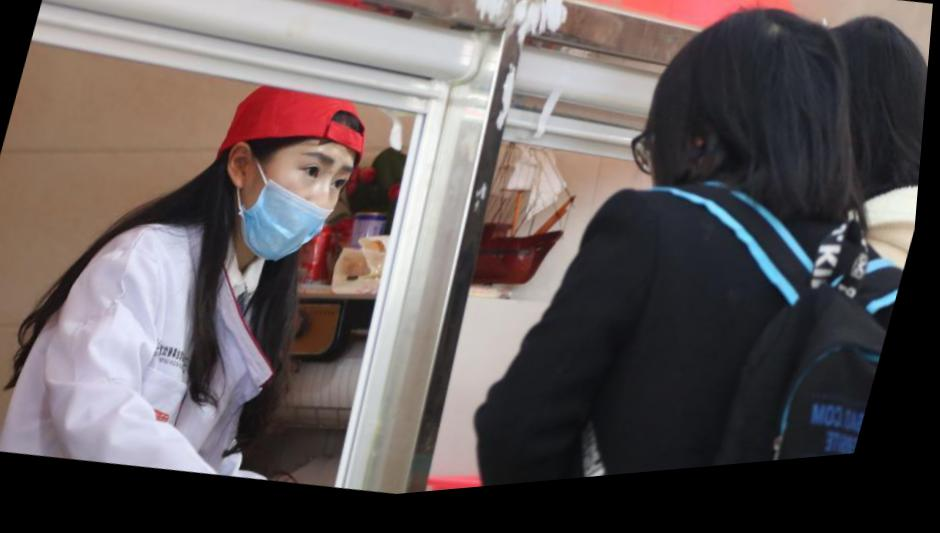WRONG: (242, 127, 367, 276)
